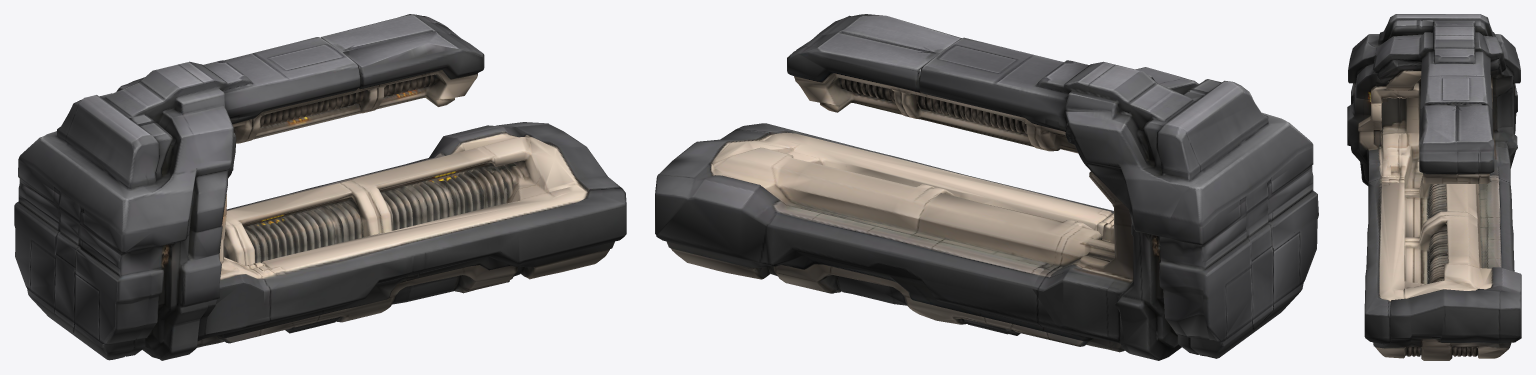
3 renders of one model, left to right at view 1: azimuth 30°, elevation 25°; view 2: azimuth 150°, elevation 25°; view 3: azimuth 270°, elevation 25°, orthographic. The views are drawn at different scales.
Visible parts, largest first — view 1: SM_SH02_01_LOD1; view 2: SM_SH02_01_LOD1; view 3: SM_SH02_01_LOD1.
Boxes of the visible parts, bbox=[...] form: SM_SH02_01_LOD1: bbox=[14, 14, 626, 360]; SM_SH02_01_LOD1: bbox=[655, 14, 1318, 360]; SM_SH02_01_LOD1: bbox=[1347, 14, 1521, 360].
Bounding box in the file's own units: 0.9788 × 0.4604 × 0.3657.
1 material, 1 textured.
